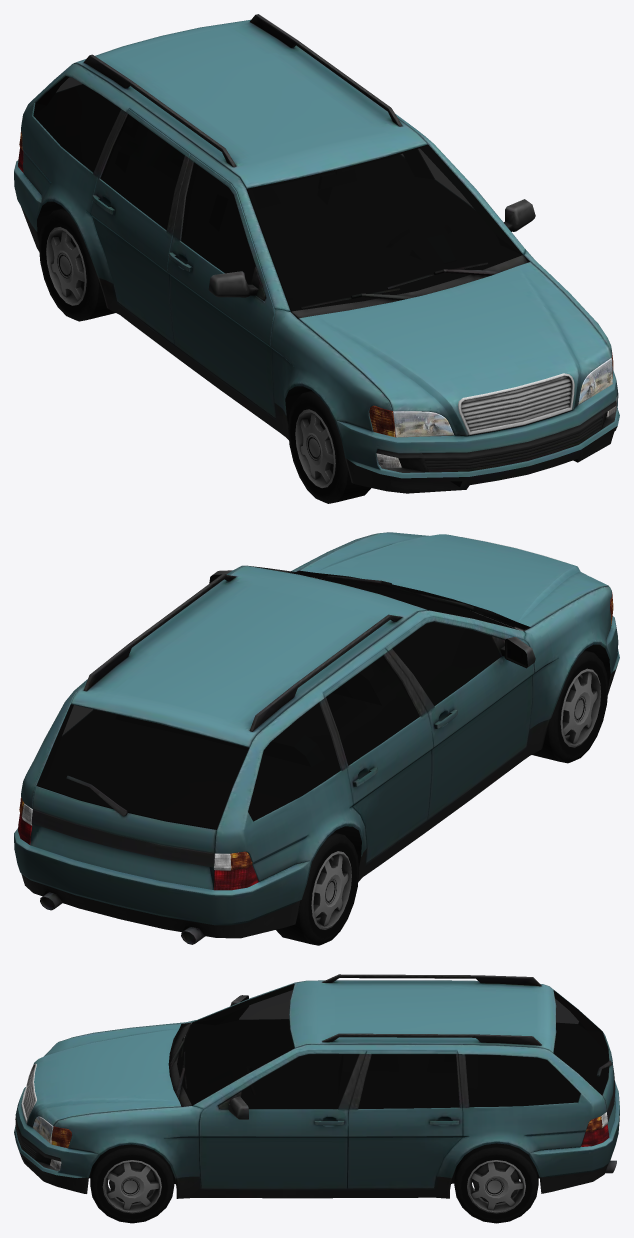
File: pc_wagon.glb
3 renders of one model, top to bottom at view 1: azimuth 30°, elevation 25°; view 2: azimuth 150°, elevation 25°; view 3: azimuth 270°, elevation 25°, orthographic. The views are drawn at different scales.
Parts seen in each view (by area): view 1: Wagon Body_Body_0, Wagon Body_Glass_0, Wheel_A002_Wheel_0, Wheel_A003_Wheel_0, Wagon Body_Optics_0; view 2: Wagon Body_Body_0, Wagon Body_Glass_0, Wheel_A003_Wheel_0, Wheel_A002_Wheel_0, Wagon Body_Optics_0; view 3: Wagon Body_Body_0, Wagon Body_Glass_0, Wheel_A001_Wheel_0, Wheel_A_Wheel_0, Wagon Body_Optics_0.
Part boxes in pixels (x1=…): Wagon Body_Body_0: x1=14, y1=14, x2=619, y2=493; Wagon Body_Glass_0: x1=33, y1=76, x2=522, y2=311; Wheel_A002_Wheel_0: x1=288, y1=391, x2=371, y2=503; Wheel_A003_Wheel_0: x1=39, y1=208, x2=115, y2=321; Wagon Body_Optics_0: x1=18, y1=131, x2=617, y2=468; Wagon Body_Body_0: x1=14, y1=532, x2=619, y2=944; Wagon Body_Glass_0: x1=36, y1=565, x2=522, y2=829; Wheel_A003_Wheel_0: x1=276, y1=832, x2=359, y2=945; Wheel_A002_Wheel_0: x1=532, y1=650, x2=608, y2=763; Wagon Body_Optics_0: x1=18, y1=592, x2=613, y2=890; Wagon Body_Body_0: x1=14, y1=974, x2=619, y2=1198; Wagon Body_Glass_0: x1=177, y1=983, x2=609, y2=1109; Wheel_A001_Wheel_0: x1=454, y1=1143, x2=538, y2=1223; Wheel_A_Wheel_0: x1=90, y1=1144, x2=174, y2=1223; Wagon Body_Optics_0: x1=32, y1=1112, x2=609, y2=1170.
Bounding box in the file's own units: 1.95 × 1.38 × 4.38.
Materials: 4 (3 with a texture image).
